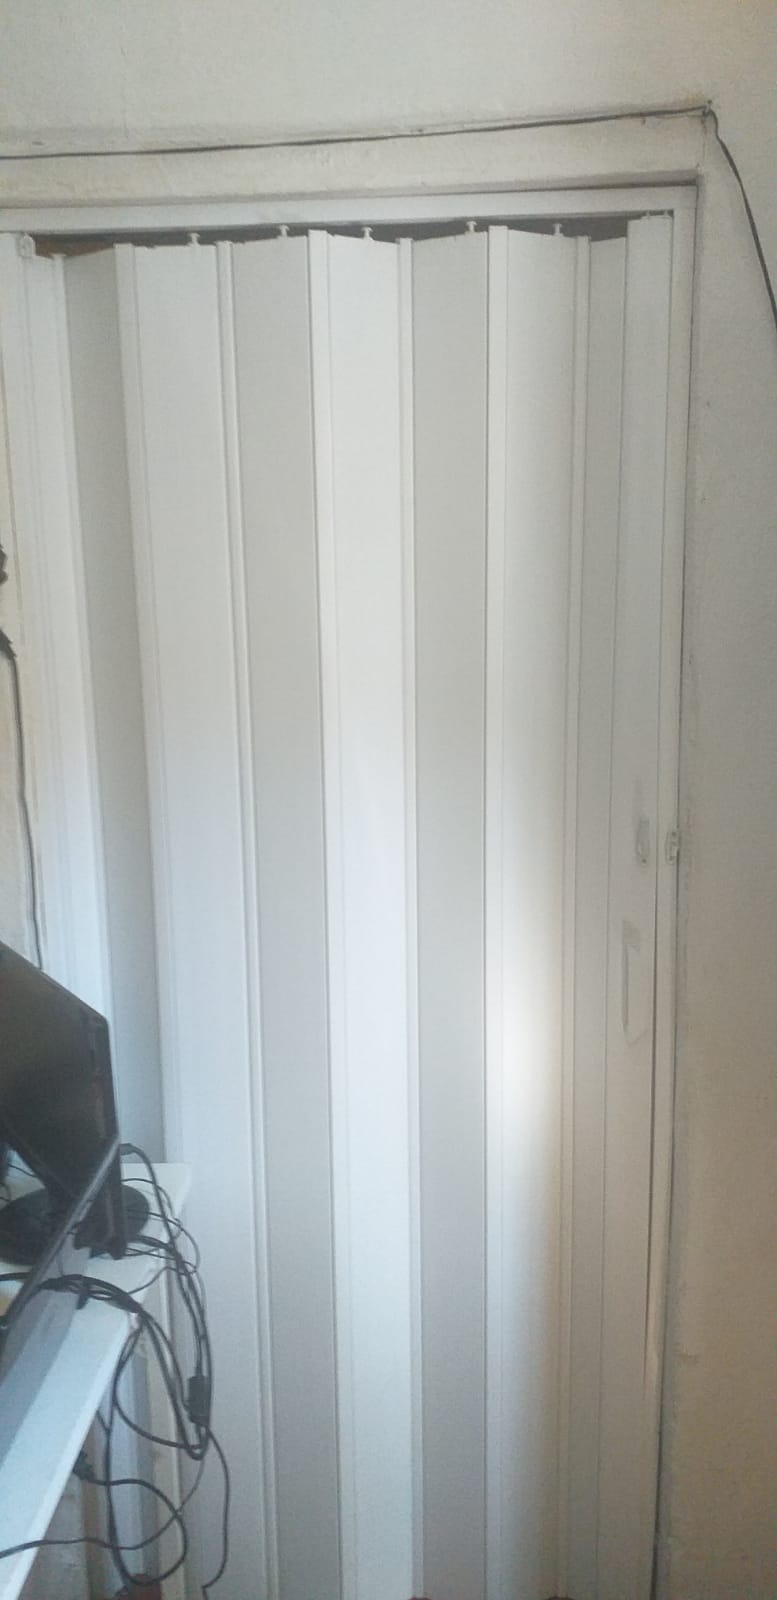door: (2, 168, 714, 1600)
